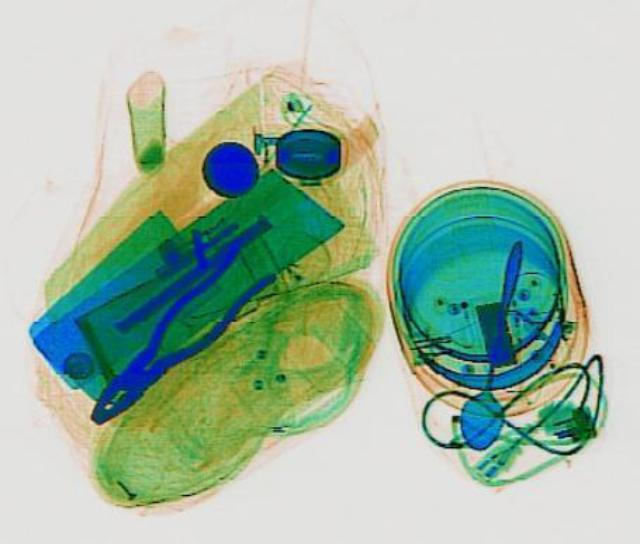Pliers: (67, 234, 283, 434)
